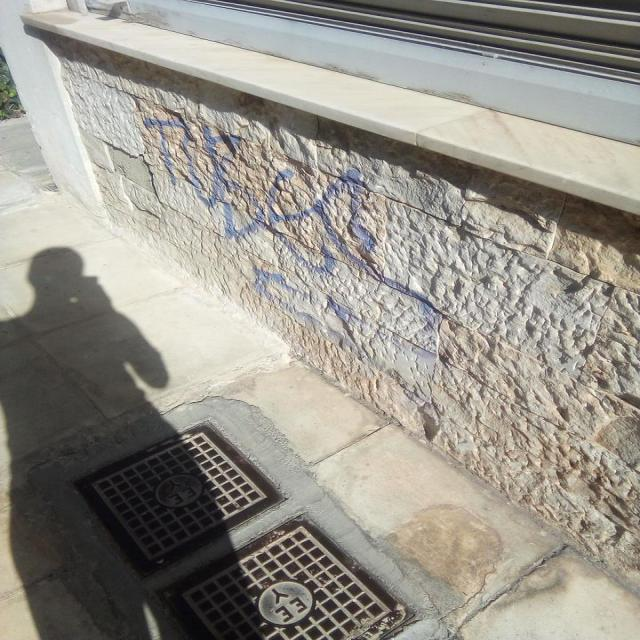nonspitting: (146, 118, 441, 366)
